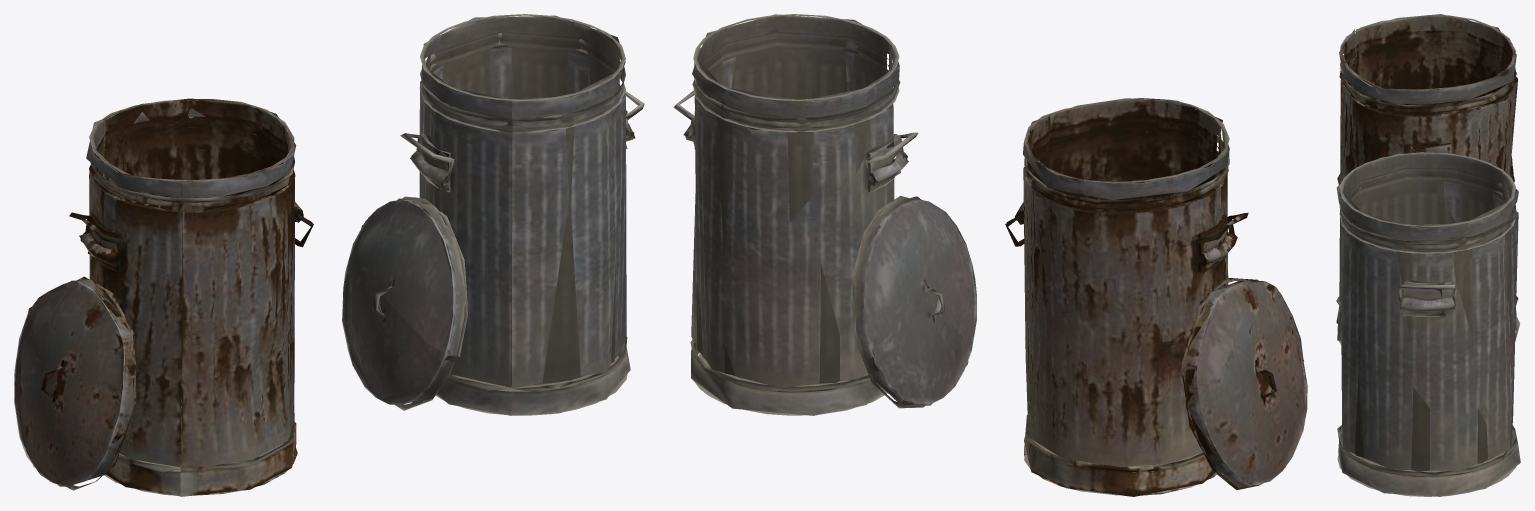
File: trash_can.glb
The picture shows the model from 3 angles, left to right: view 1: azimuth 30°, elevation 25°; view 2: azimuth 150°, elevation 25°; view 3: azimuth 270°, elevation 25°; orthographic projection. The views are drawn at different scales.
Visible parts, largest first — view 1: trash_can; view 2: trash_can; view 3: trash_can.
Boxes of the visible parts, x1,y1,x2,y2 form: trash_can: [14, 14, 644, 496]; trash_can: [673, 14, 1307, 496]; trash_can: [1336, 14, 1520, 496].
Bounding box in the file's own units: 1.86 × 0.95 × 0.5907.
3 materials, 3 textured.
